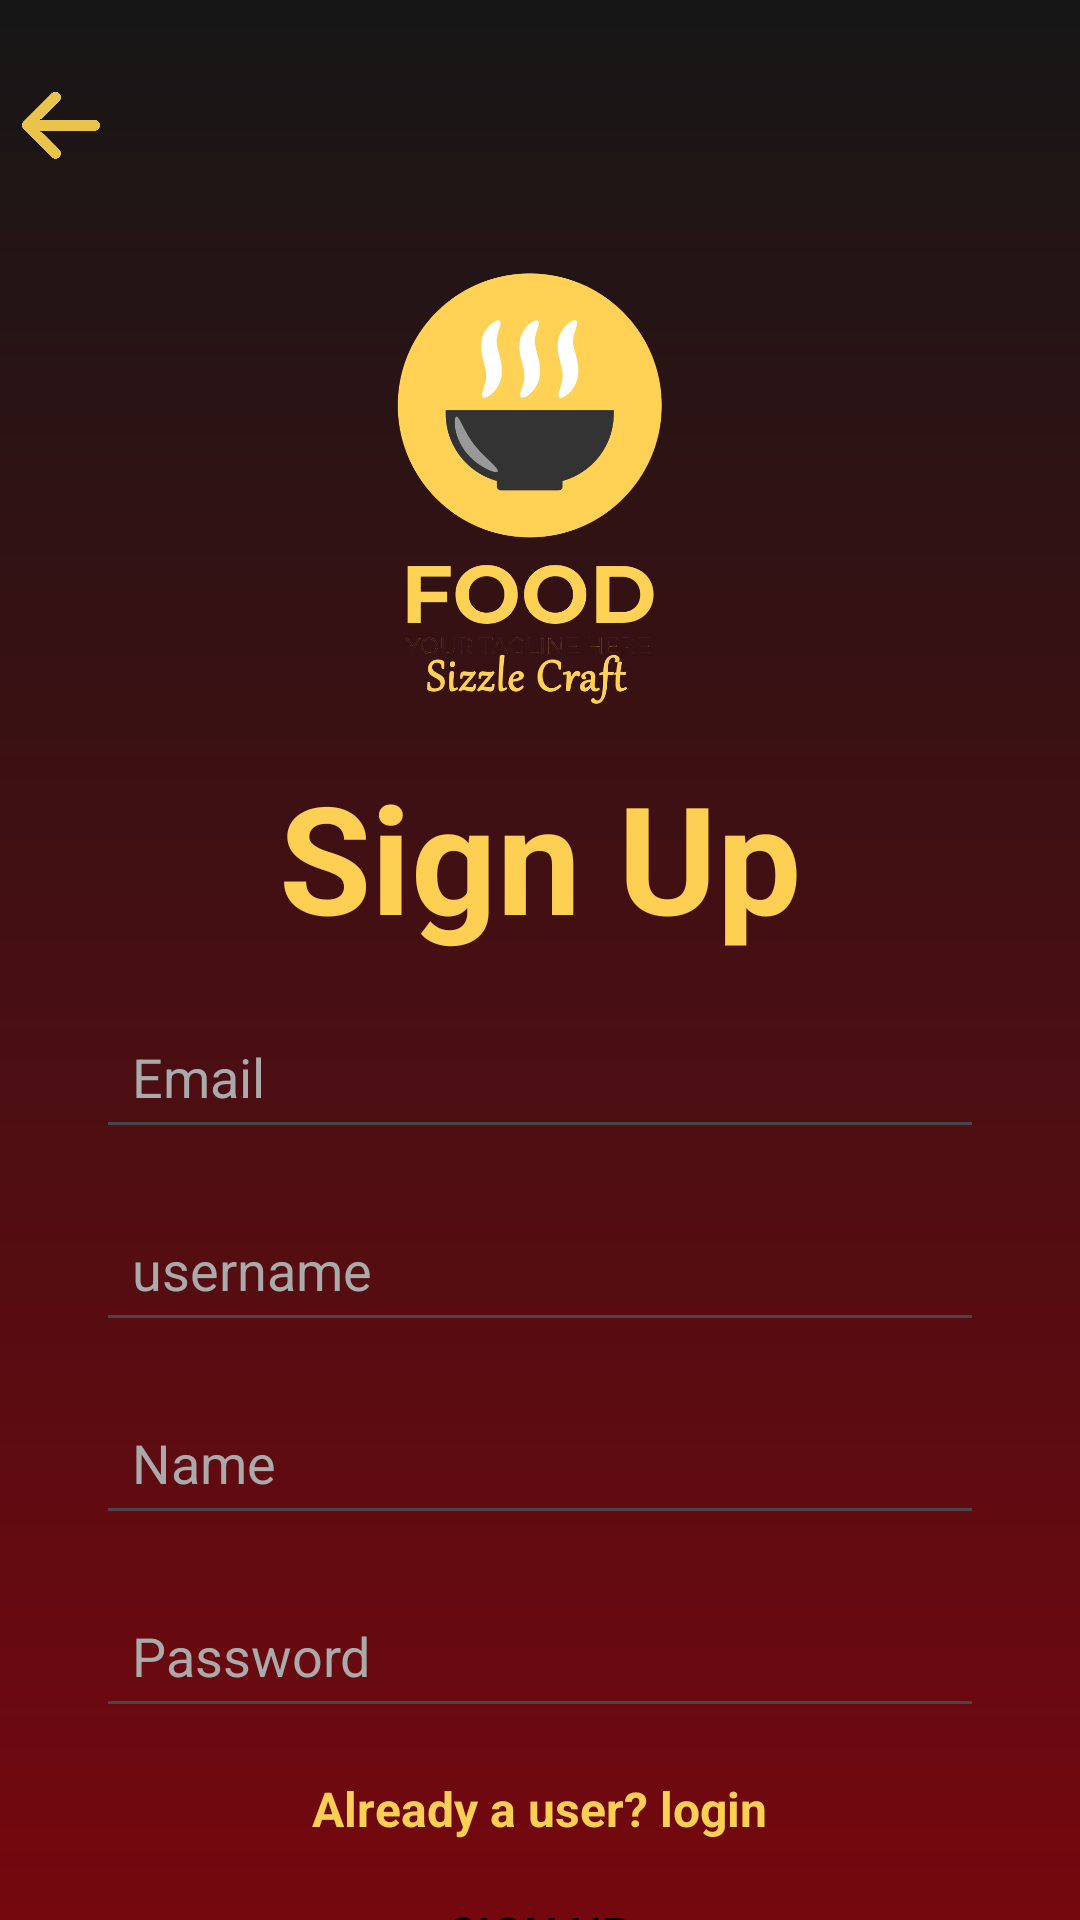

Icons on this 1080x1920 Android screen, each with the point to tap as point (x, y):
arrow: point (61, 125)
